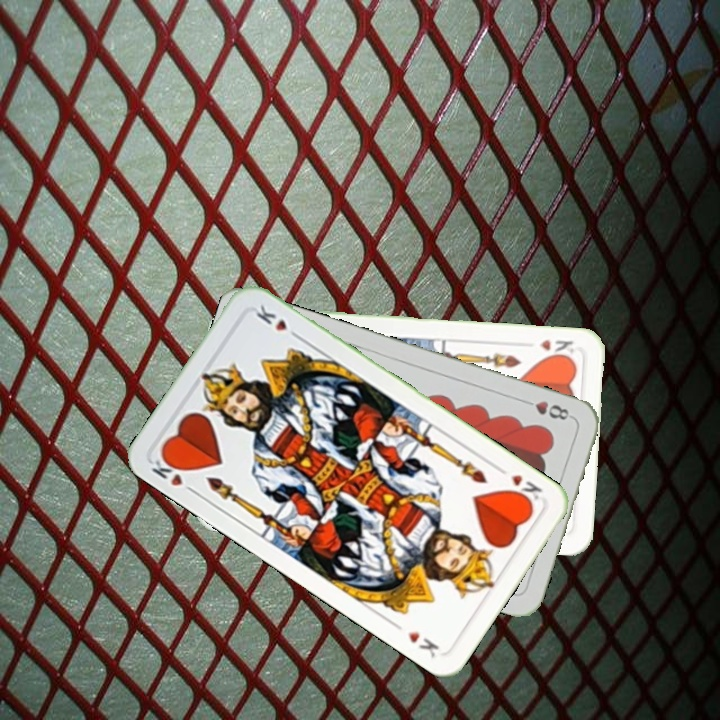H8: (518, 395, 576, 423)
HK: (147, 450, 200, 497), (505, 470, 545, 508), (536, 335, 577, 361)
